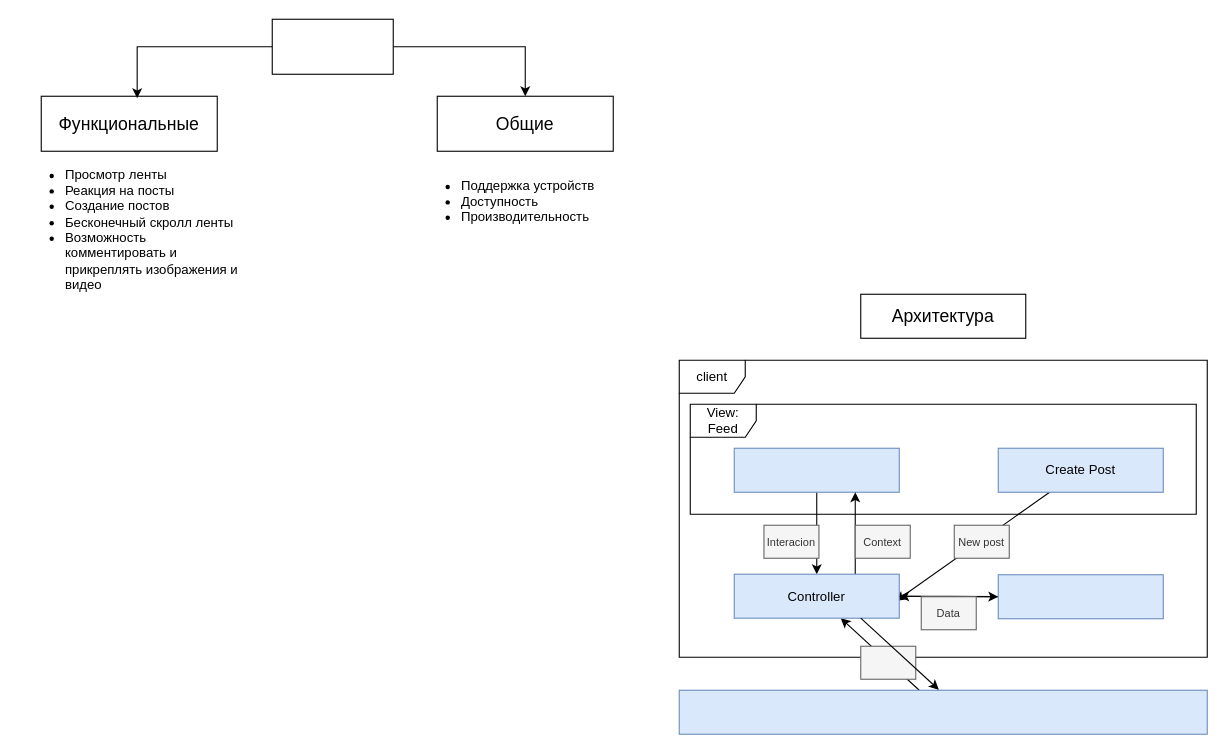
Image size: 1227x754. Some labels were removed from this diagram. The centre of each missing label's shape, as x and y in pixels:
"Client Store" goes at pixel 1080 596.
"JSON" goes at pixel 888 662.
"Post" goes at pixel 816 469.
"Server" goes at pixel 942 711.
"Требования" goes at pixel 332 46.
